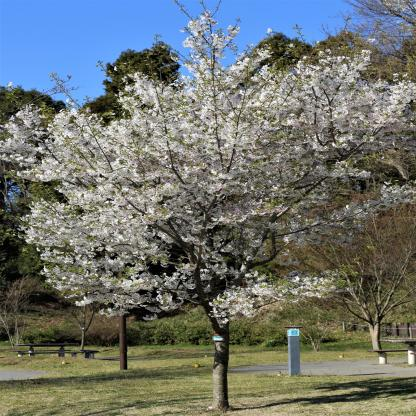OshimaSakura: (0, 2, 414, 324), (337, 1, 416, 46)
